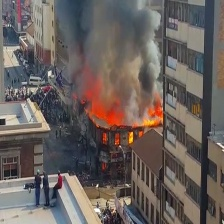fire: (77, 80, 165, 169)
smoke: (50, 1, 161, 97)
